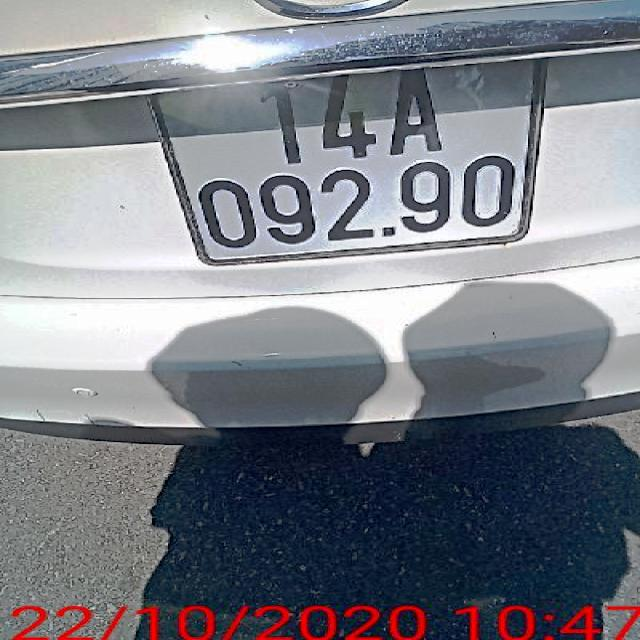license_plate: (151, 57, 540, 266)
